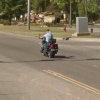Motorcycle: (34, 31, 67, 64)
